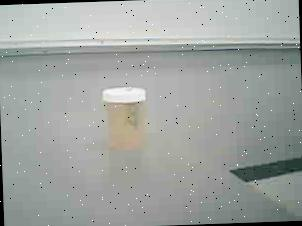Bottle B: (98, 81, 158, 158)
